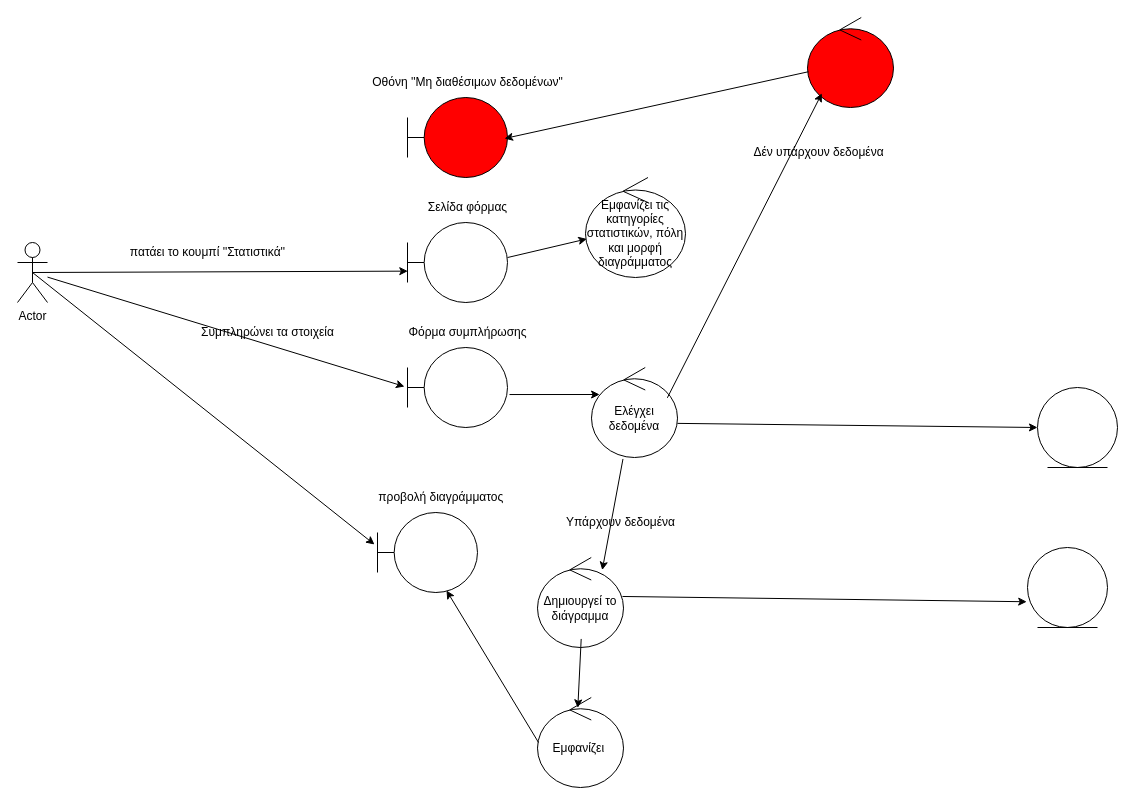
The diagram is 1135 pixels wide and 805 high, and some of its shapes have lost their labels. The box of each missing label's shape, as (x1, y1, x2, y2) in pixels:
Βάση δεδομένων: (1036, 386, 1118, 468)
Διάγραμμα: (1026, 546, 1108, 628)
Εμφάνιση ενημρωτικής οθόνης: (806, 16, 894, 108)
